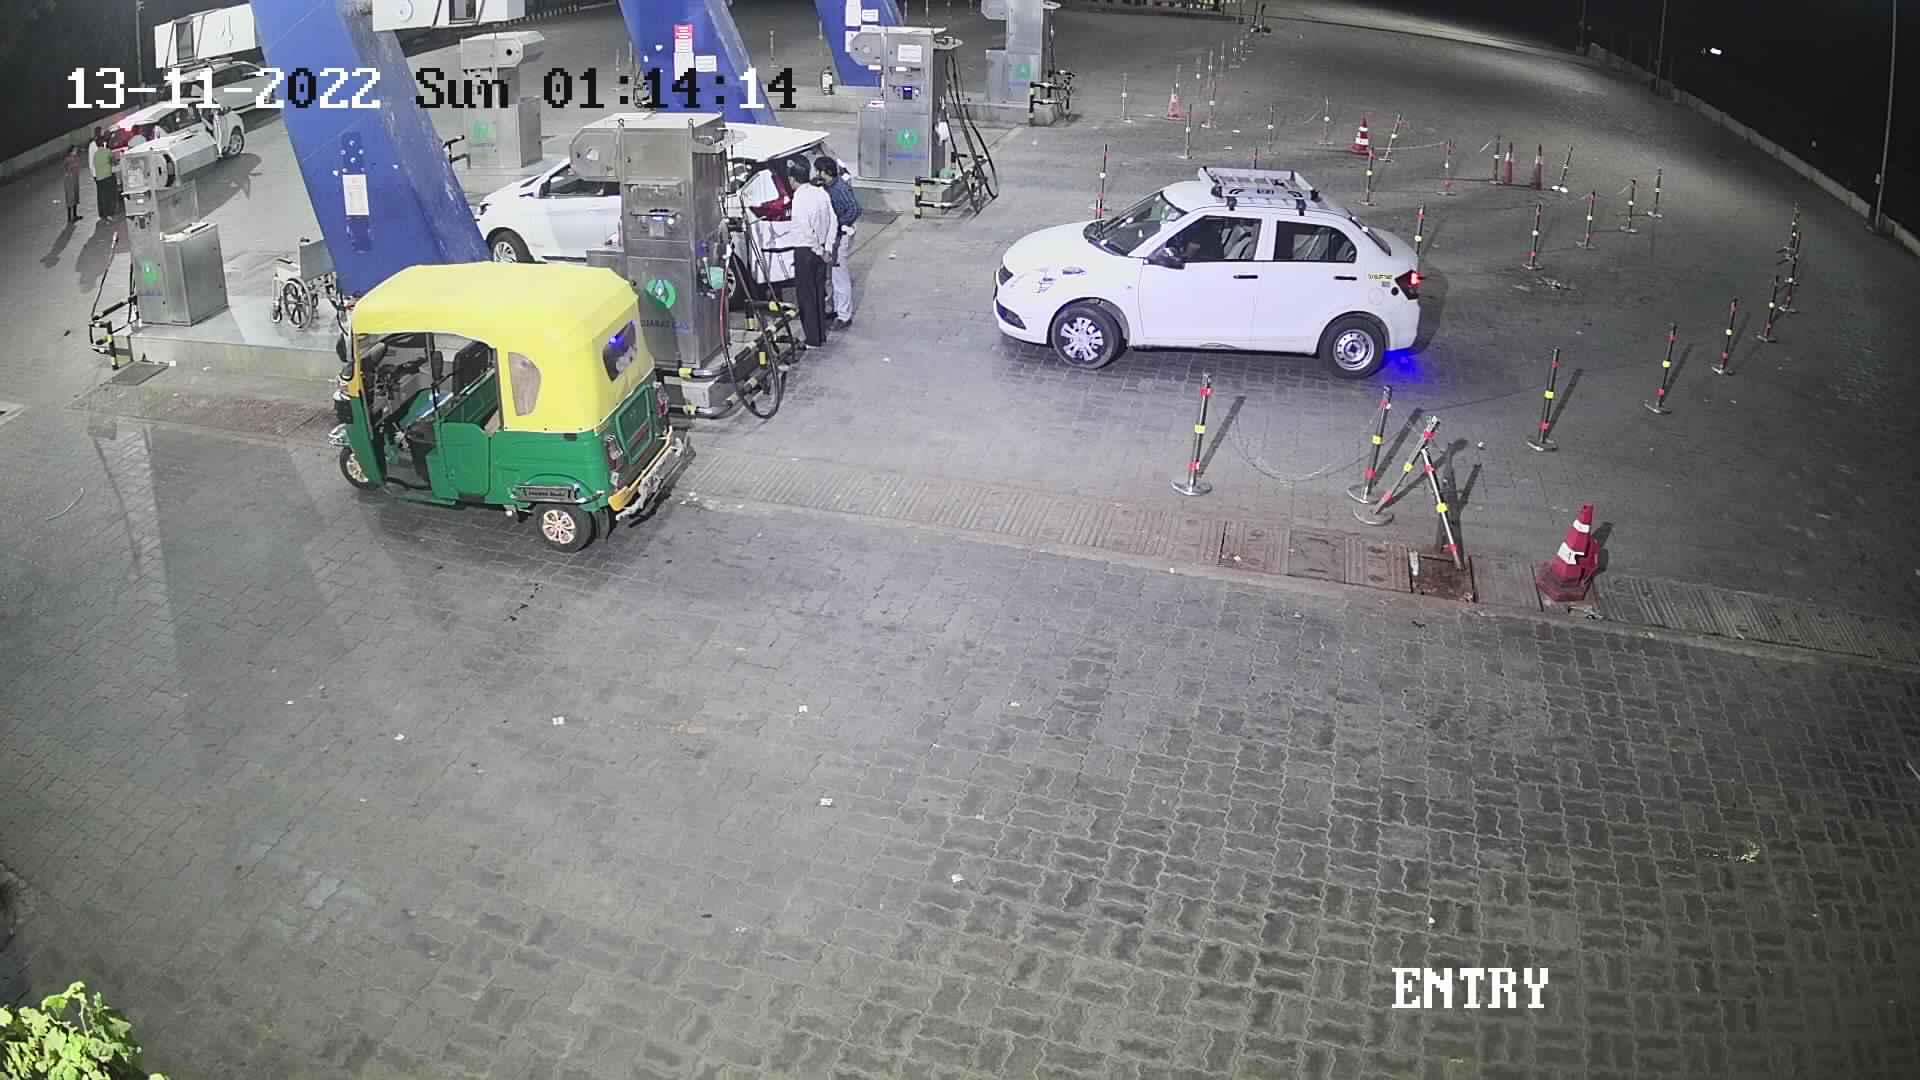Auto: (313, 253, 686, 556)
Car: (982, 164, 1437, 386), (717, 113, 872, 324), (80, 86, 249, 208), (144, 45, 281, 127)
